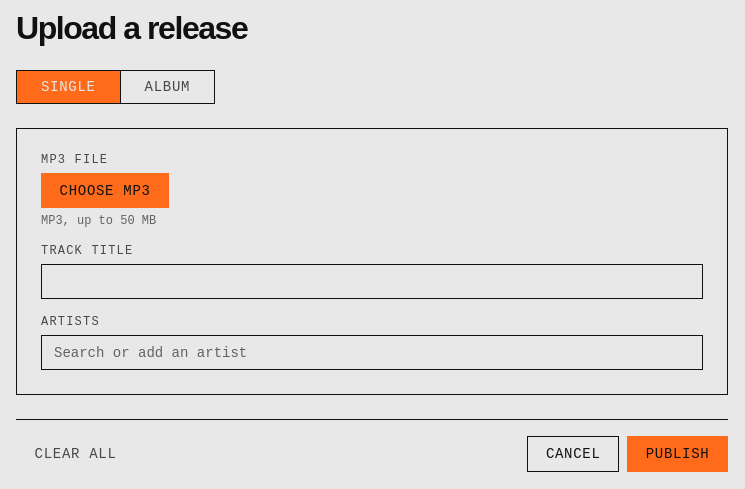
Scenario: UploadForm › Clear all asks, then resets
Type "Draft" into the field labelled "Track title" at (372, 281), box [41,264,703,299]
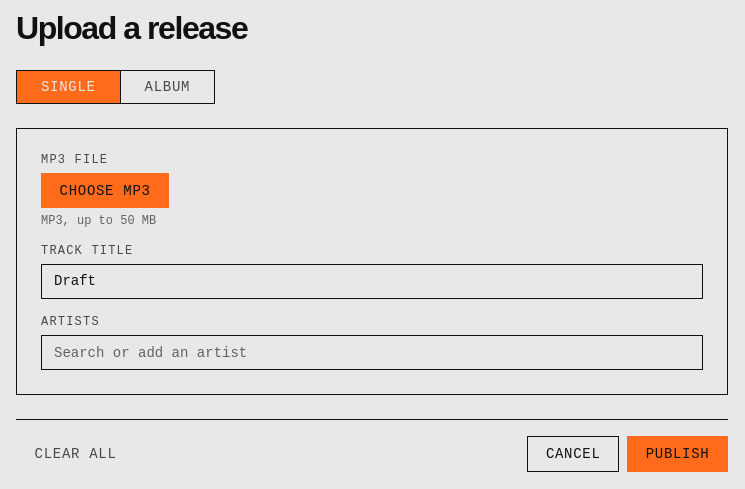
Click the button "Clear all" at (76, 454), box [16,436,135,472]
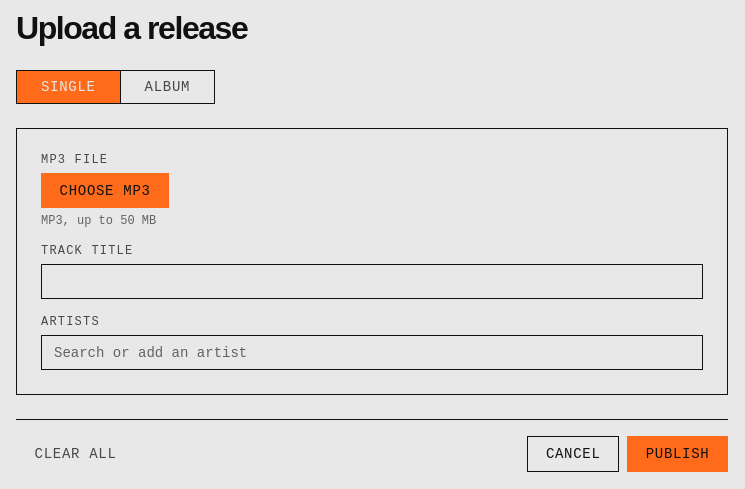
Expected: the field labelled "Track title" is empty, [41,264,703,299]
